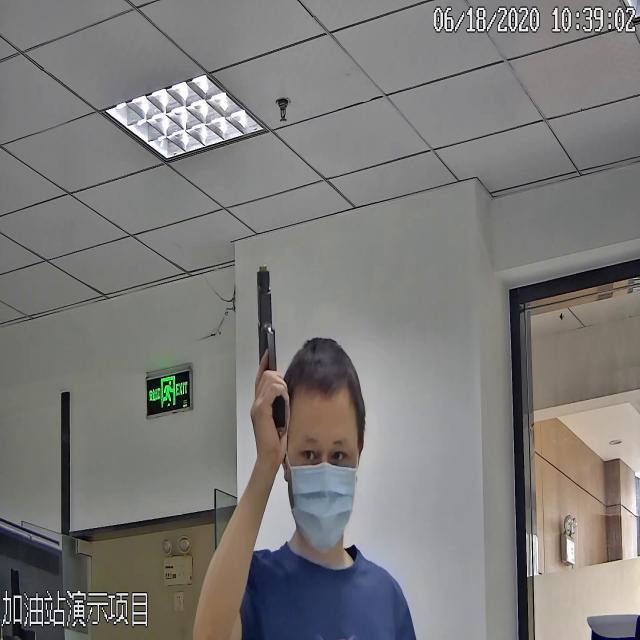gun-knife-thesis - v11 Yolov5 augmented: (240, 264, 292, 432)
